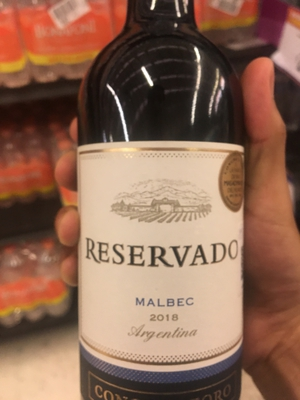reservado malbec: (74, 18, 246, 400)
